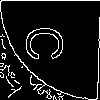C: (25, 25, 73, 62)
